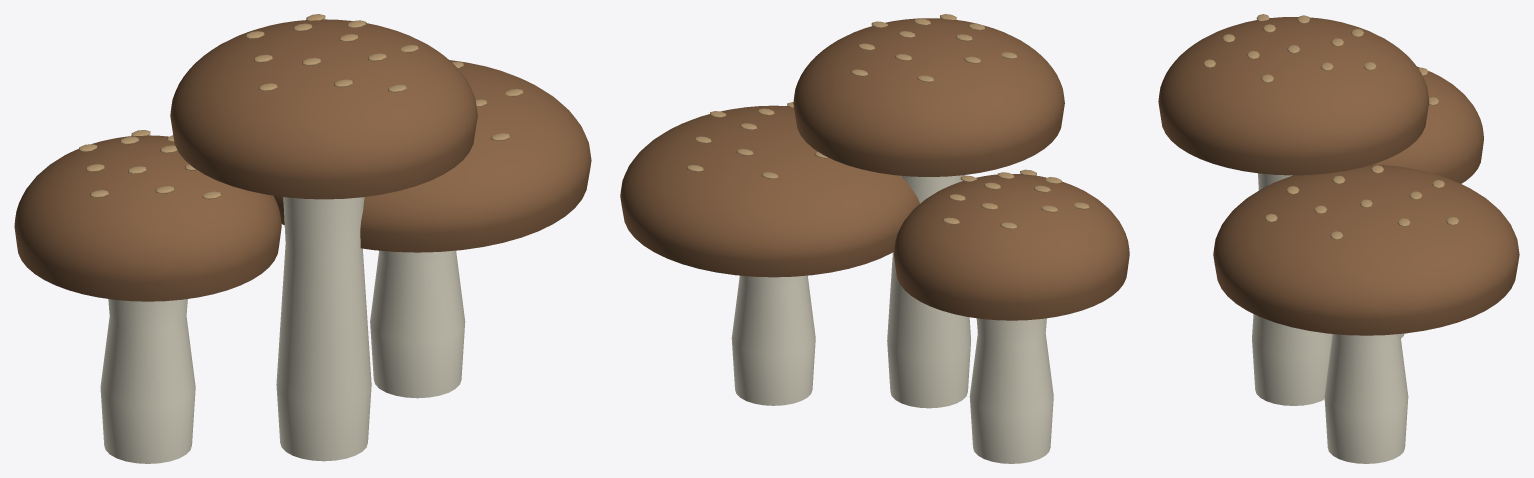
The model's file is mushroom-farm-and-grow-rooms-shiitake-mushroom-cluster-237480bd__30828.glb.
3 renders of one model, left to right at view 1: azimuth 30°, elevation 25°; view 2: azimuth 150°, elevation 25°; view 3: azimuth 270°, elevation 25°, orthographic. The views are drawn at different scales.
Visible parts, largest first — view 1: shiitake-mushroom-cluster; view 2: shiitake-mushroom-cluster; view 3: shiitake-mushroom-cluster.
Part boxes in pixels (box(x1,y1,x2,y2)): shiitake-mushroom-cluster: box(14, 14, 591, 463); shiitake-mushroom-cluster: box(620, 14, 1129, 463); shiitake-mushroom-cluster: box(1158, 14, 1519, 463).
Bounding box in the file's own units: 0.338 × 0.2413 × 0.224.
